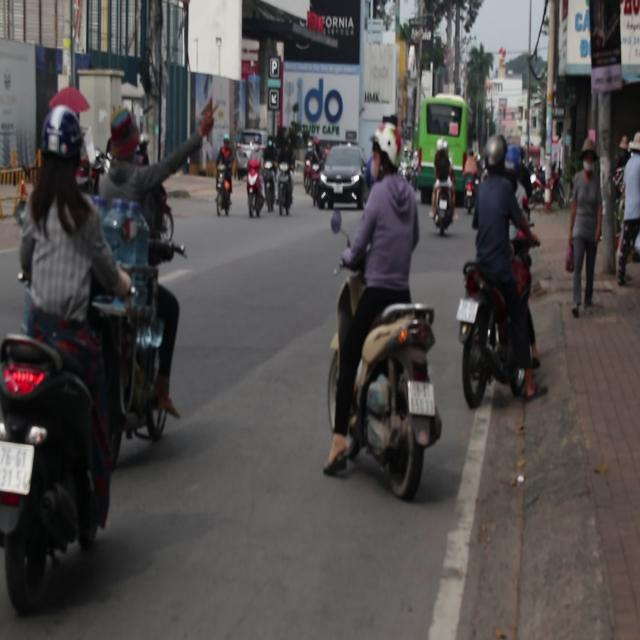bus: (412, 88, 462, 191)
car: (310, 143, 369, 208), (237, 129, 270, 153)
motorbike: (0, 314, 121, 625), (315, 274, 442, 502), (44, 261, 182, 455), (448, 249, 552, 423), (425, 164, 459, 236), (210, 164, 232, 227), (278, 159, 296, 227), (248, 165, 265, 232), (458, 156, 475, 214), (304, 160, 318, 196), (267, 171, 275, 211)
